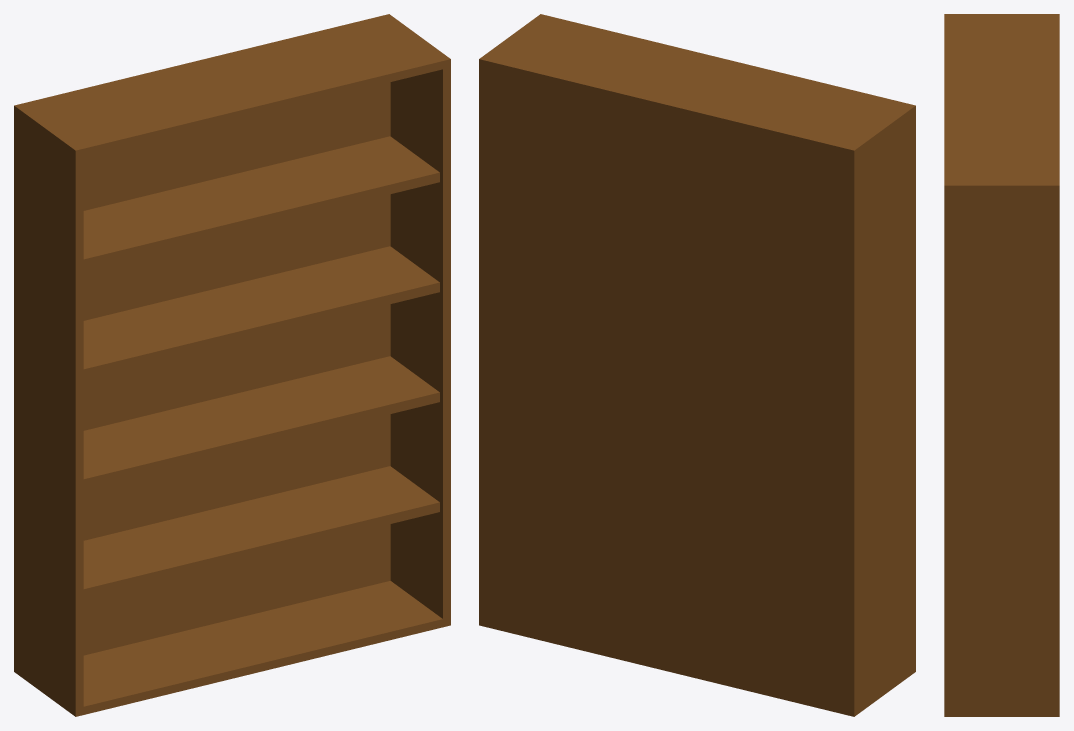
Rendered from furniture_bookshelf.fbx.
3 renders of one model, left to right at view 1: azimuth 30°, elevation 25°; view 2: azimuth 150°, elevation 25°; view 3: azimuth 270°, elevation 25°, orthographic. The views are drawn at different scales.
Parts seen in each view (by area): view 1: furniture_bookshelf; view 2: furniture_bookshelf; view 3: furniture_bookshelf.
Boxes of the visible parts, x1,y1,x2,y2 form: furniture_bookshelf: (14, 14, 450, 716); furniture_bookshelf: (479, 14, 915, 716); furniture_bookshelf: (944, 14, 1059, 716).
Bounding box in the file's own units: 1.26 × 1.81 × 0.3576.
